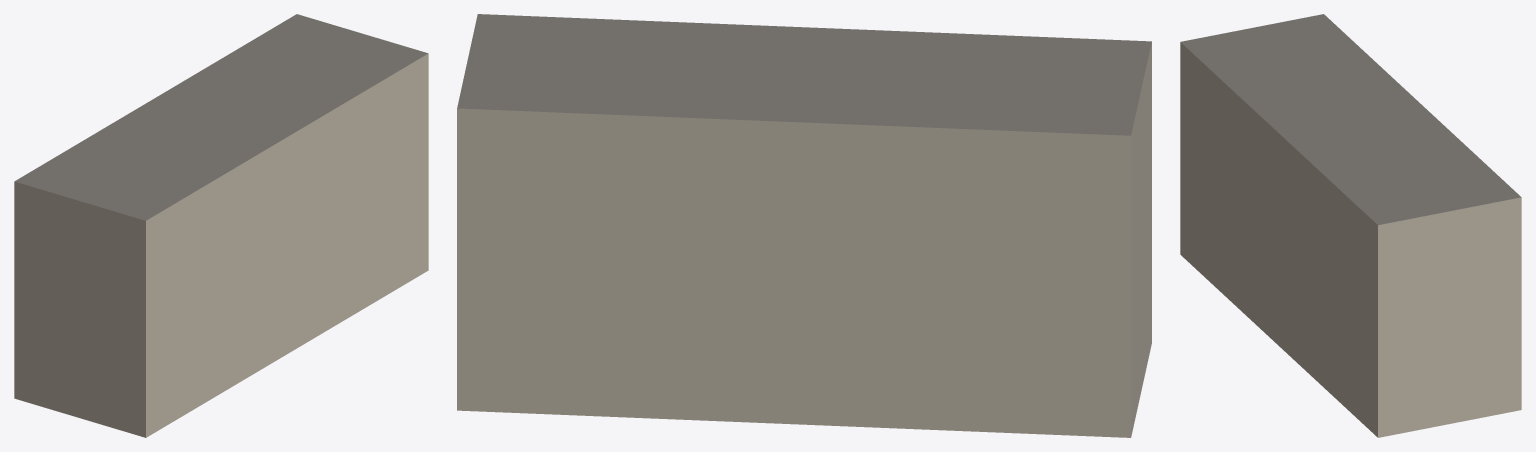
The picture shows the model from 3 angles, left to right: view 1: azimuth 30°, elevation 25°; view 2: azimuth 150°, elevation 25°; view 3: azimuth 270°, elevation 25°; orthographic projection. The views are drawn at different scales.
Parts seen in each view (by area): view 1: HP-w1070642160; view 2: HP-w1070642160; view 3: HP-w1070642160.
Part boxes in pixels (bbox=[...]): HP-w1070642160: bbox=[14, 14, 428, 437]; HP-w1070642160: bbox=[457, 14, 1151, 437]; HP-w1070642160: bbox=[1180, 14, 1521, 437].
Size of the model in its own units: 38.33 by 18 by 26.18.
